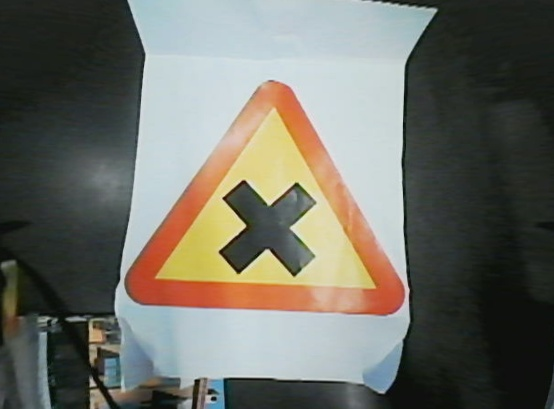junction: (123, 78, 409, 318)
